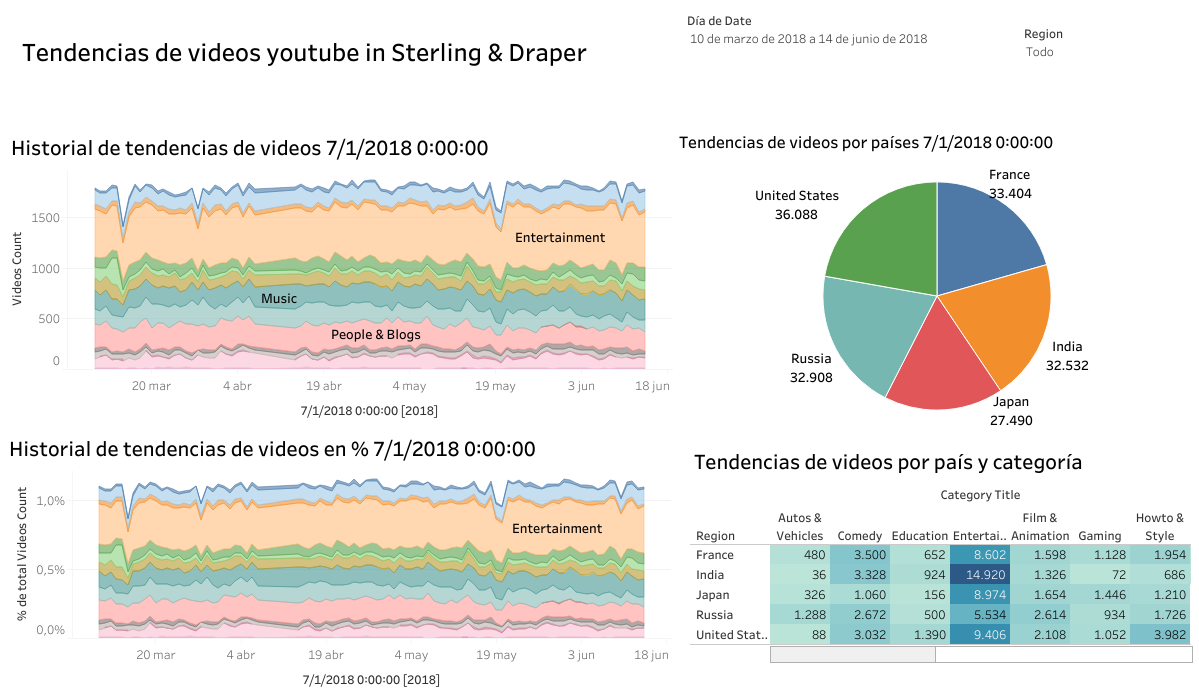

This screenshot's page, from the dashboard's own definition file:
{"tool":"tableau","page":{"name":"Dashboard 1","canvas":[1200,700],"ordinal":0},"visuals":[{"type":"text","box":[4,6,614,89]},{"type":"filter","title":"Grafic Historial 1","param":"[federated.01j0zqa15ximg41cvb7xm0f2222c].[tdy:date:qk]","box":[687,10,321,114]},{"type":"filter","title":"Pie chart","param":"[federated.01j0zqa15ximg41cvb7xm0f2222c].[none:region:nk]","box":[1024,23,160,44]},{"type":"worksheet","title":"Pie chart","mark":"Pie","box":[675,124,524,306]},{"type":"worksheet","title":"Grafic Historial 1","mark":"Area","rows":["videos_count"],"cols":["date"],"box":[7,127,665,299]},{"type":"worksheet","title":"Grafi Tendencias por pais","mark":"Area","rows":["videos_count"],"cols":["date"],"box":[5,428,666,267]},{"type":"worksheet","title":"Tabla","mark":"Square","rows":["region"],"cols":["category_title"],"box":[690,441,502,255]}]}

Visuals, with their boxes in screenshot pixels (x1, y1, x2, y2), scaled from the page's 1200x700 canvas onto the 1199x699 screenshot:
text: <bbox>4, 6, 617, 95</bbox>
"Grafic Historial 1" filter: <bbox>686, 10, 1007, 124</bbox>
"Pie chart" filter: <bbox>1023, 23, 1183, 67</bbox>
"Pie chart" worksheet (Pie marks): <bbox>674, 124, 1198, 429</bbox>
"Grafic Historial 1" worksheet (Area marks): <bbox>7, 127, 671, 425</bbox>
"Grafi Tendencias por pais" worksheet (Area marks): <bbox>5, 427, 670, 694</bbox>
"Tabla" worksheet (Square marks): <bbox>689, 440, 1191, 695</bbox>
